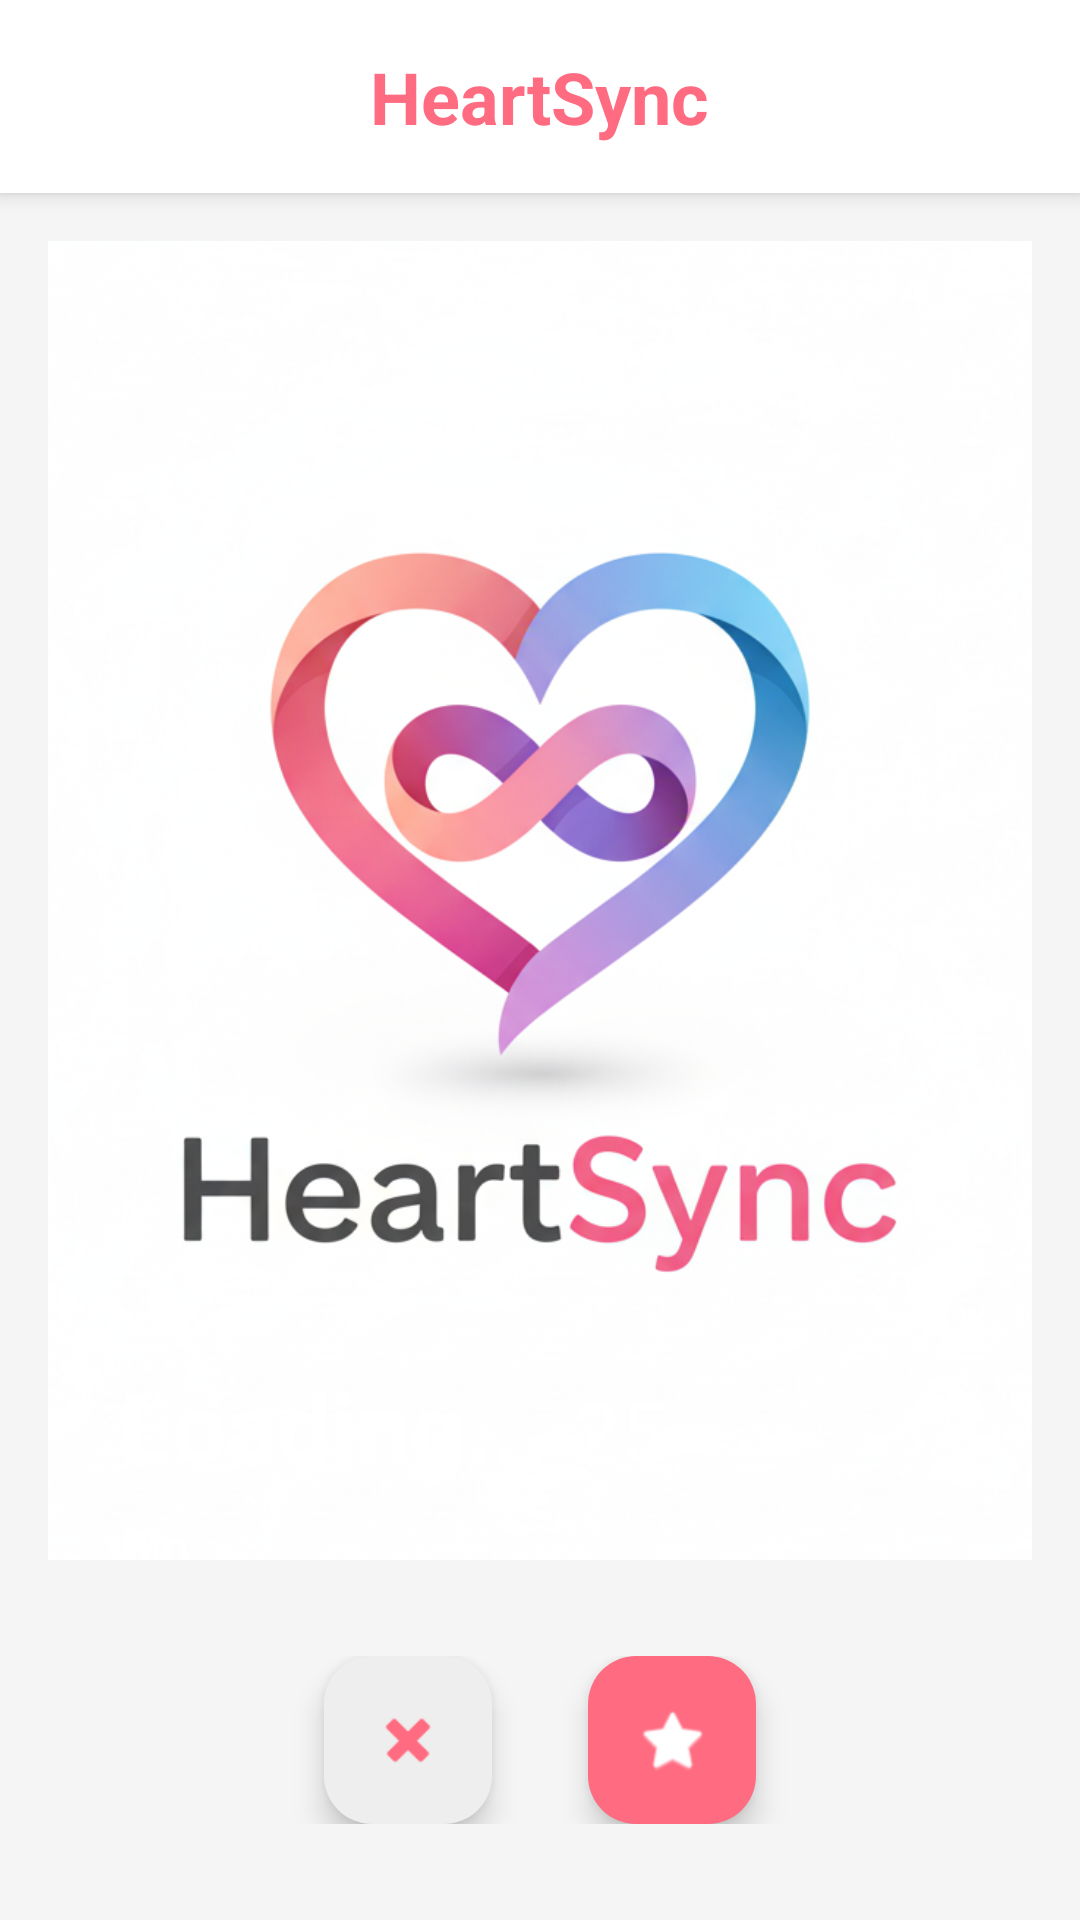

Locate icon controls on the screen. Image size 1080 × 1920, boxes as Rect(x1, y1, x2, y2).
Like: Rect(588, 1656, 756, 1824)
Pass: Rect(328, 1718, 484, 1824)
